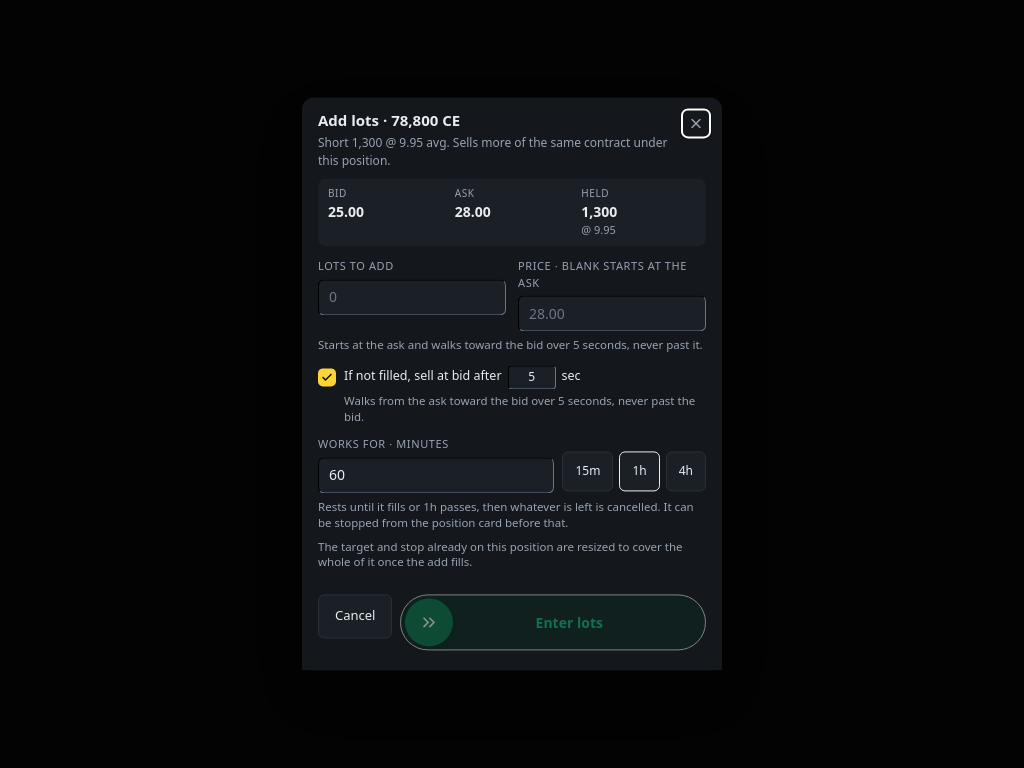
it: the preview › the chips fill in the windows anyone actually picks
The image size is (1024, 768).
Click the button "15m". click: [588, 471]
box: 562,451 -> 614,491
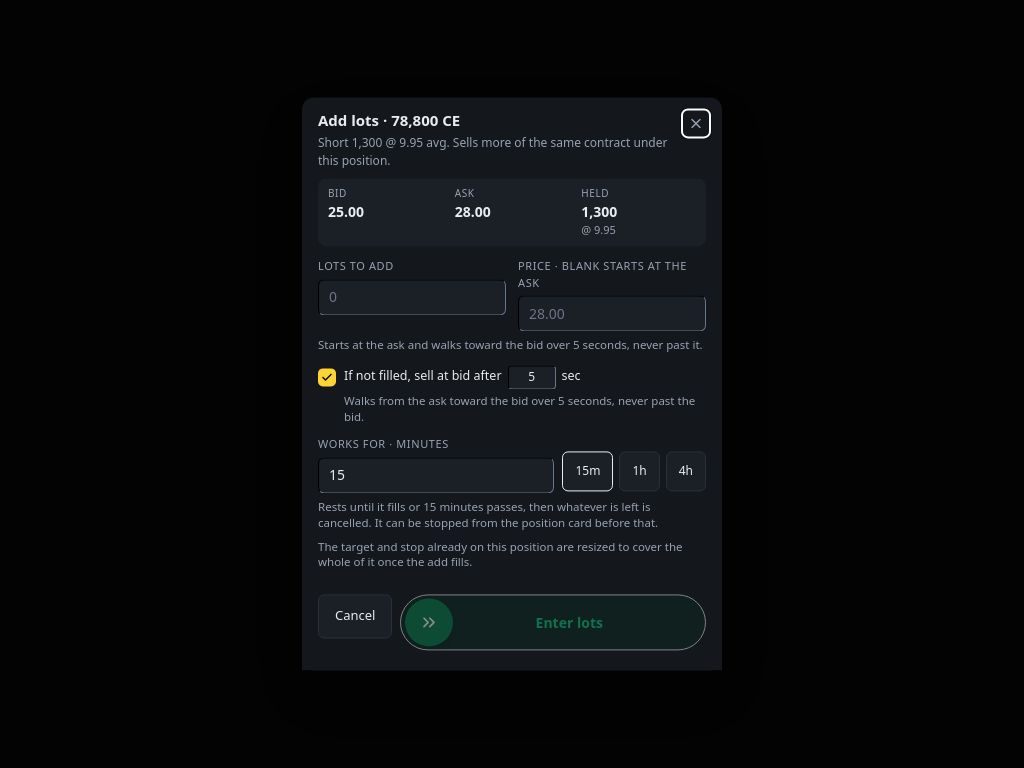
expect the field named "how long the add works for" holds "15": met, box 318,457 -> 554,493
Click the button "4h". click: [686, 471]
box: 666,451 -> 706,491
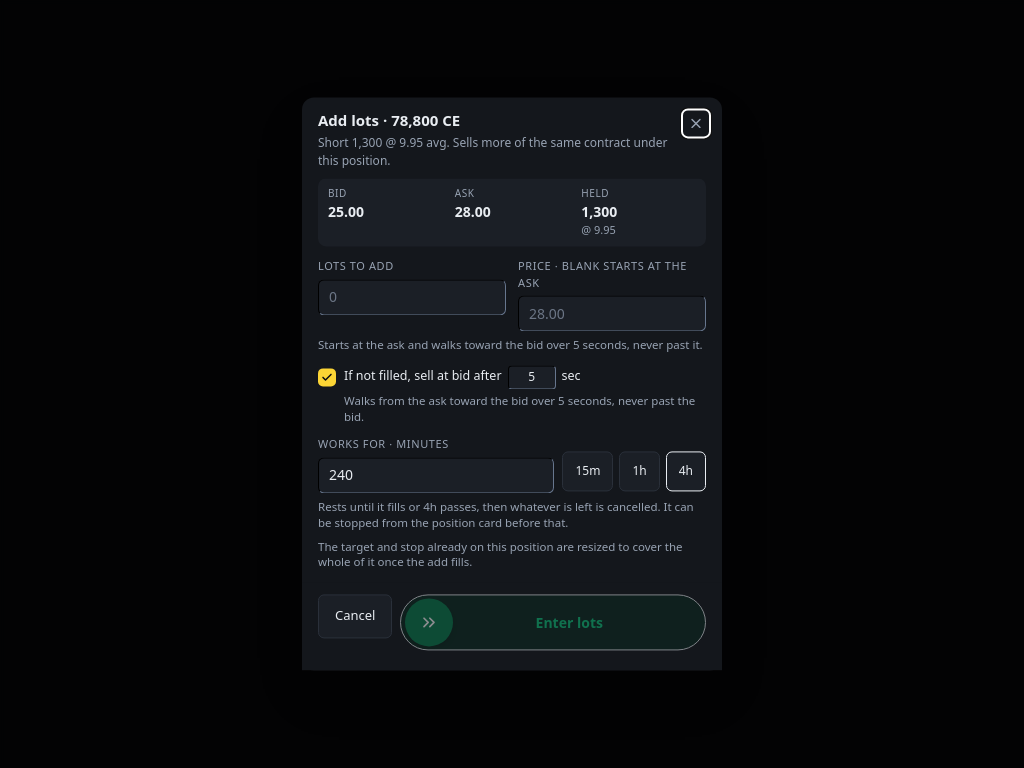
expect the field named "how long the add works for" holds "240": met, box 318,457 -> 554,493
expect the text "or 4h passes" is shown: met, box 318,499 -> 694,530
Click the button "1h". click: [640, 471]
box: 619,451 -> 660,491
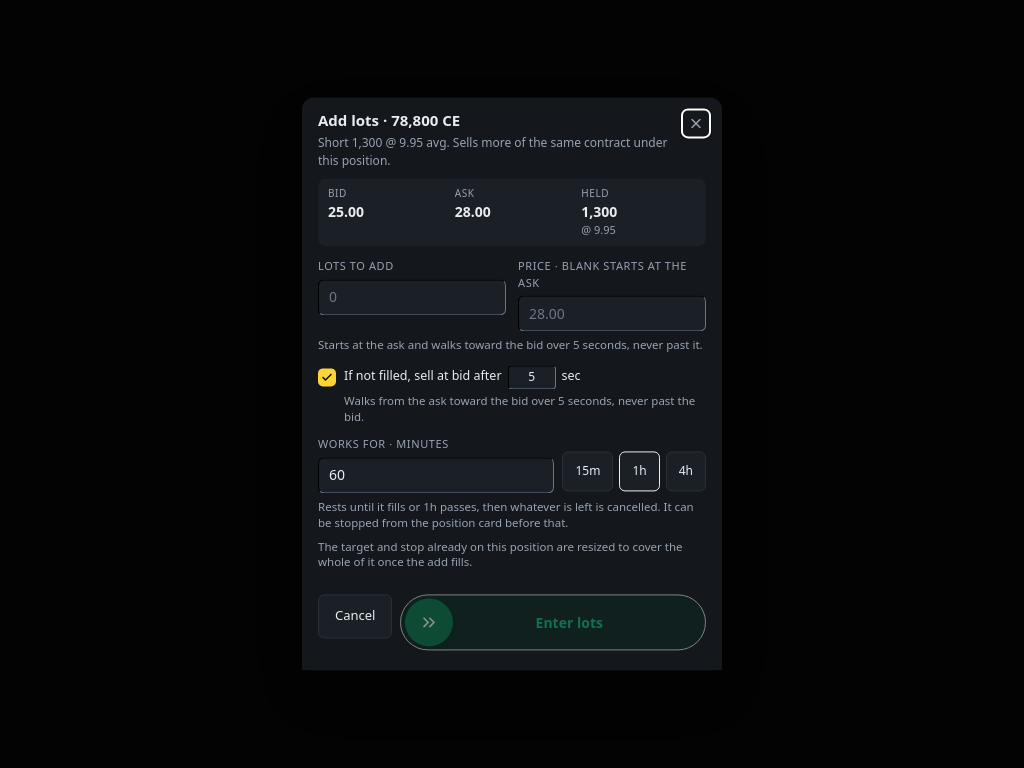
expect the field named "how long the add works for" holds "60": met, box 318,457 -> 554,493
